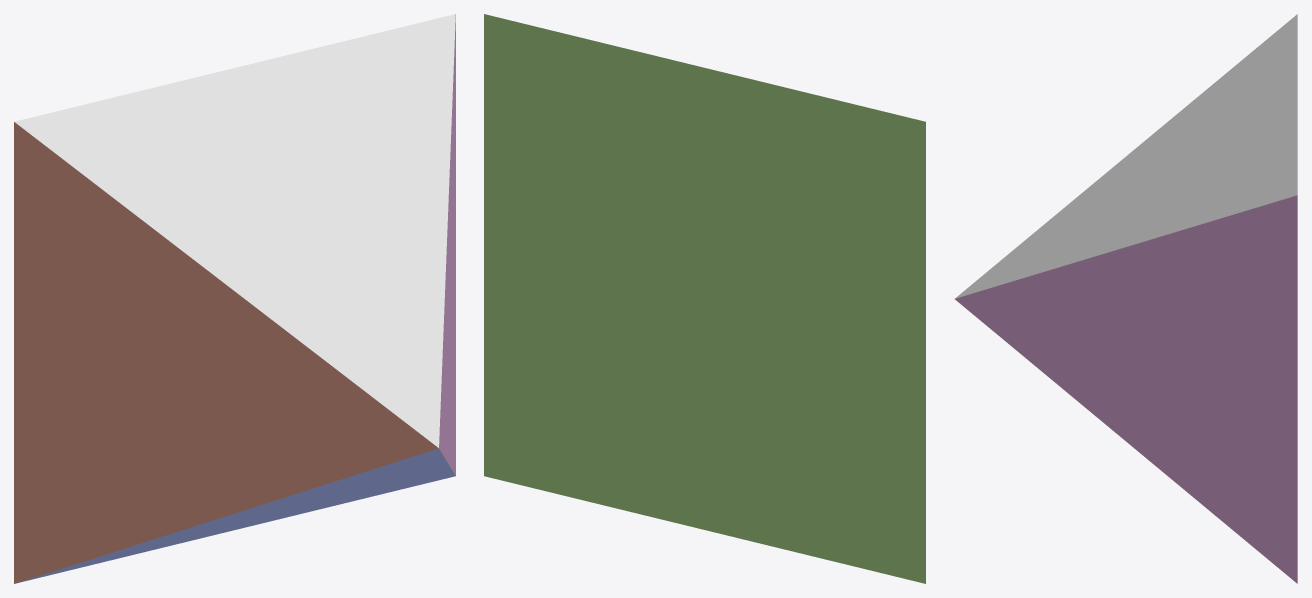
3 views of the same model, side by side, from view 1: azimuth 30°, elevation 25°; view 2: azimuth 150°, elevation 25°; view 3: azimuth 270°, elevation 25° (orthographic). The views are drawn at different scales.
Parts seen in each view (by area): view 1: Right, Front, Back, Left; view 2: Bottom; view 3: Left, Front.
Boxes of the visible parts, <box> form: Right: <box>14,122,438,583</box>; Front: <box>14,14,455,447</box>; Back: <box>16,448,455,583</box>; Left: <box>439,14,455,475</box>; Bottom: <box>484,14,925,583</box>; Left: <box>955,195,1297,583</box>; Front: <box>955,14,1297,298</box>.
Size of the model in its own units: 50 by 50 by 40.
